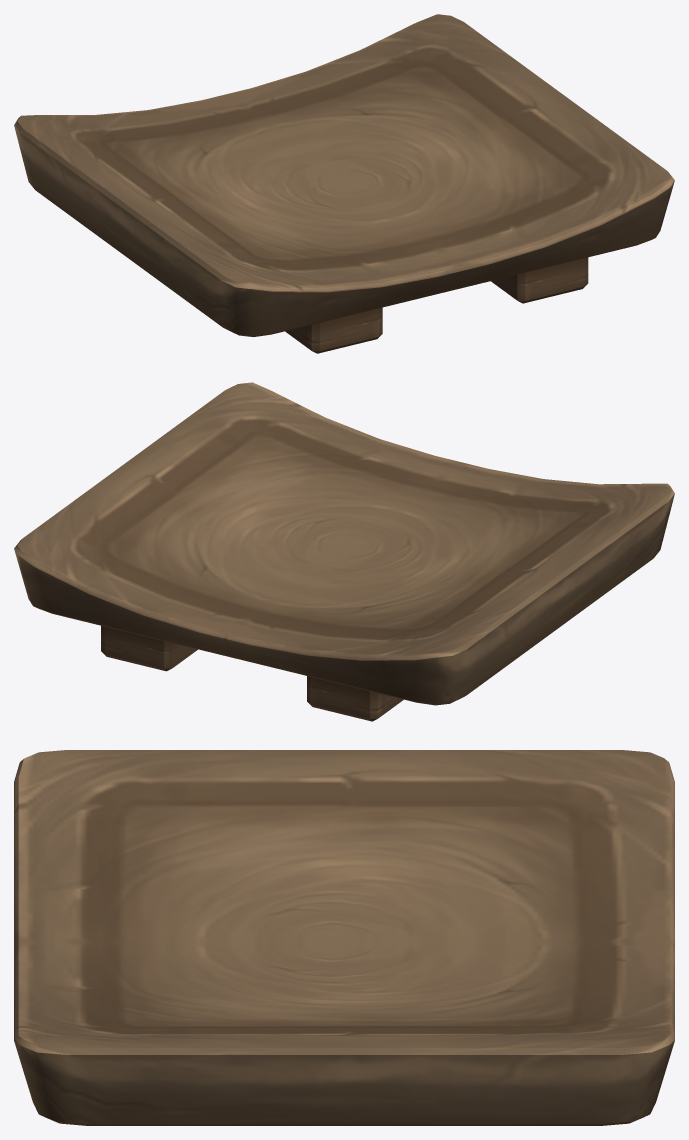
The model's file is Plate_08.FBX.
3 renders of one model, top to bottom at view 1: azimuth 30°, elevation 25°; view 2: azimuth 150°, elevation 25°; view 3: azimuth 270°, elevation 25°, orthographic. The views are drawn at different scales.
Visible parts, largest first — view 1: Plate_008; view 2: Plate_008; view 3: Plate_008.
Boxes of the visible parts, x1,y1,x2,y2 form: Plate_008: (14,14,674,353); Plate_008: (14,382,674,721); Plate_008: (14,750,674,1125).
Size of the model in its own units: 106 by 21.5 by 97.9.
